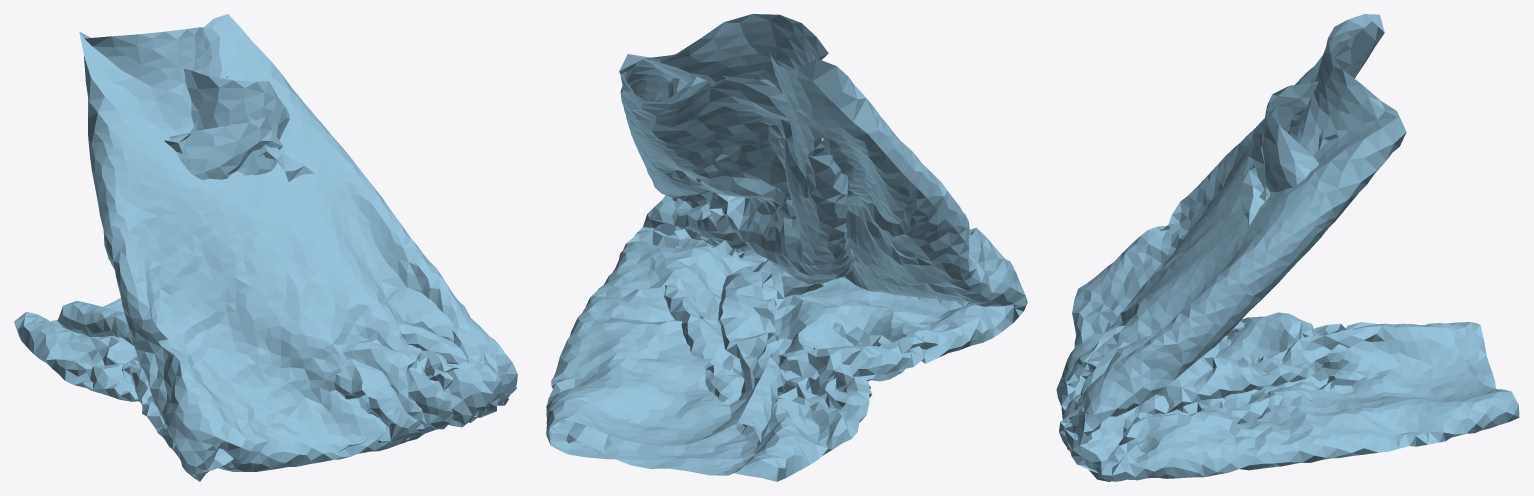
File: frame_16.glb
3 views of the same model, side by side, from view 1: azimuth 30°, elevation 25°; view 2: azimuth 150°, elevation 25°; view 3: azimuth 270°, elevation 25° (orthographic). The views are drawn at different scales.
Parts seen in each view (by area): view 1: frame_16.obj; view 2: frame_16.obj; view 3: frame_16.obj.
Boxes of the visible parts, x1=… form: frame_16.obj: x1=14, y1=14, x2=517, y2=481; frame_16.obj: x1=546, y1=14, x2=1027, y2=481; frame_16.obj: x1=1056, y1=14, x2=1519, y2=481.
Bounding box in the file's own units: 0.8529 × 0.8457 × 1.03.
